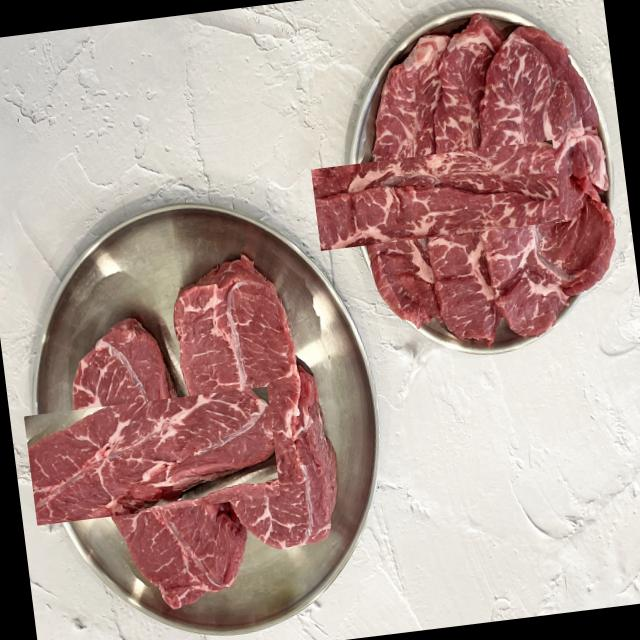beef: (53, 356, 251, 554), (188, 274, 324, 537), (346, 104, 528, 286), (476, 57, 571, 300)
